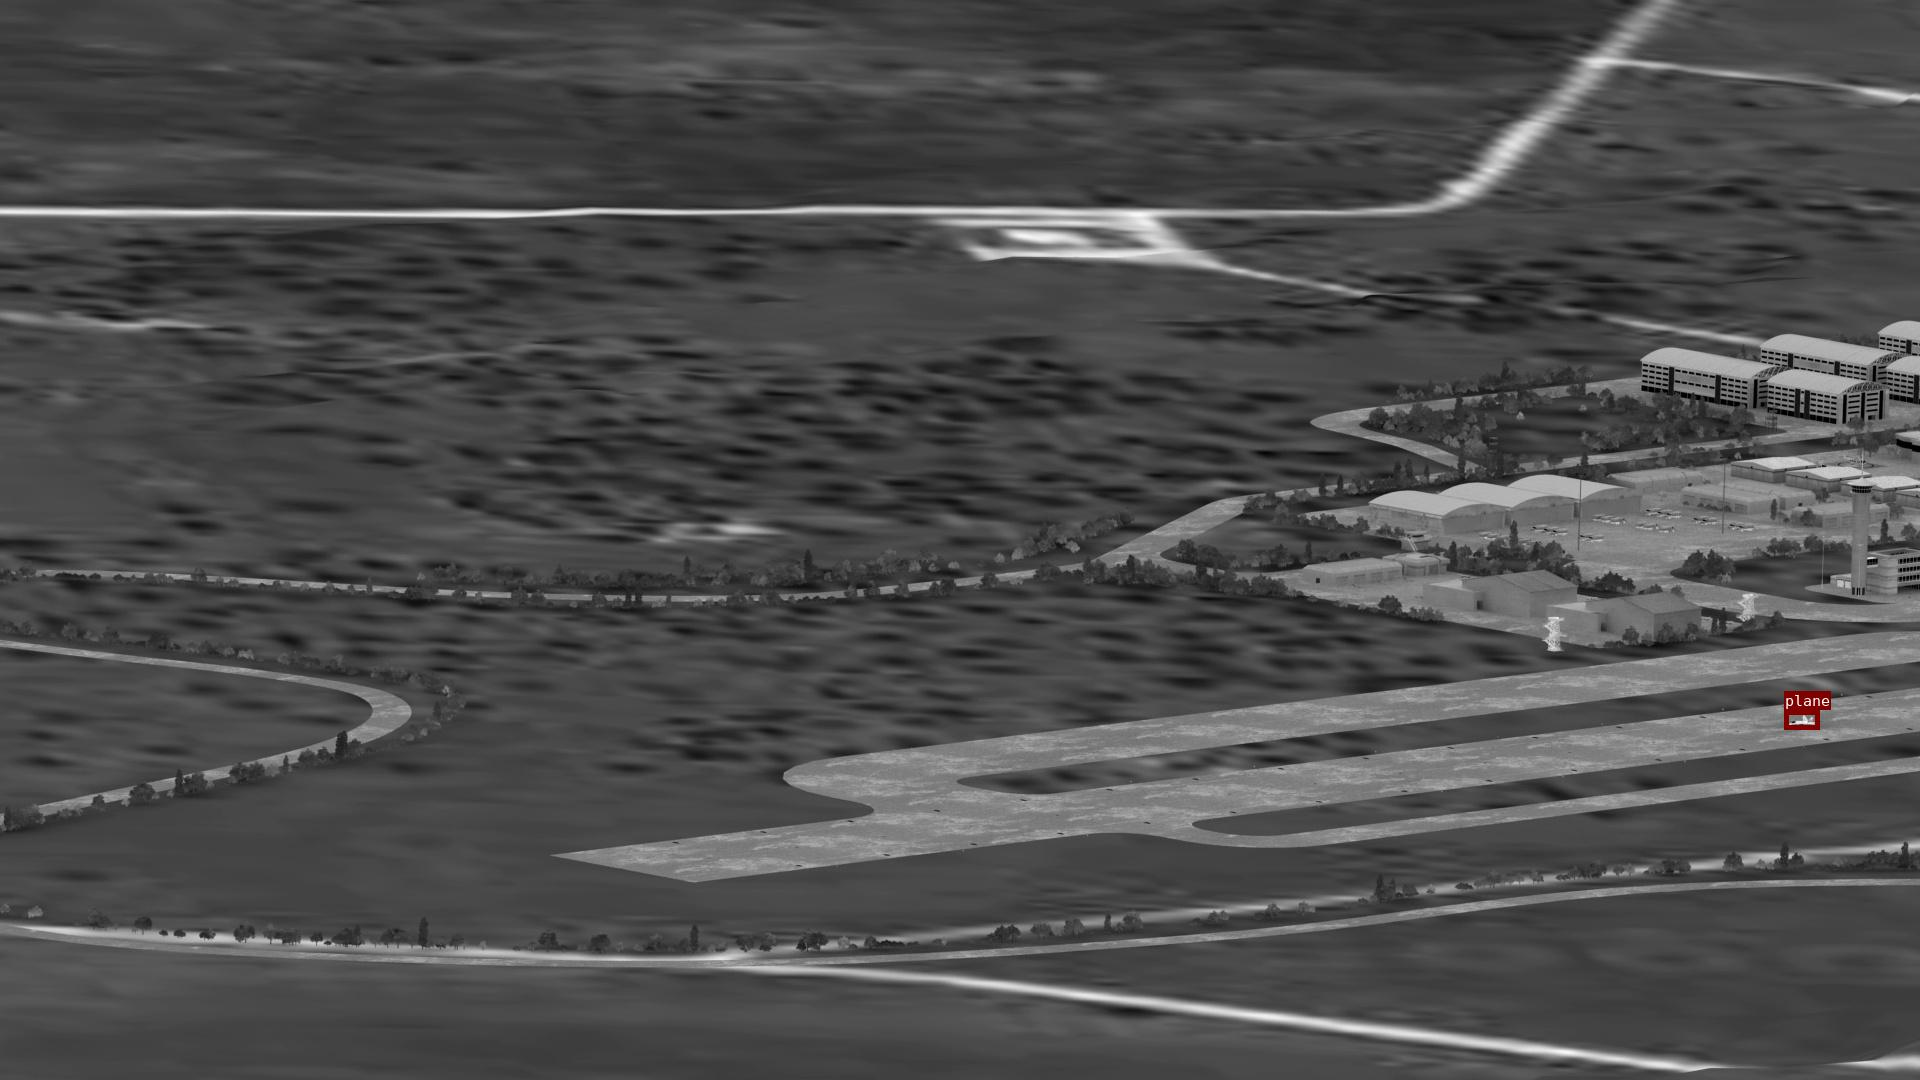plane: (1784, 709, 1818, 729)
